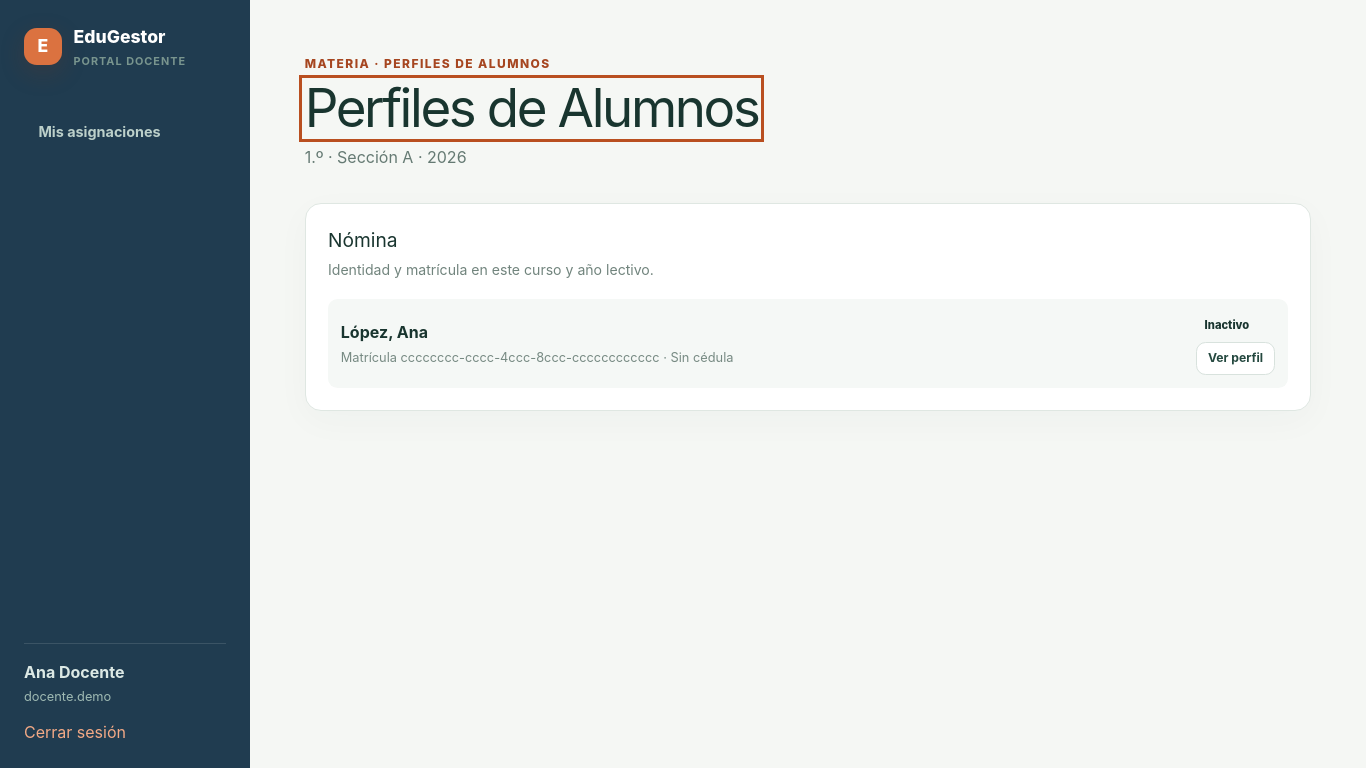
Test: Hito 2A — estudiantes › STU-24: perfiles desde materia presentan solo identidad y matrícula contextual
The width and height of the screenshot is (1366, 768).
expect the heading "Perfiles de Alumnos" is shown: met, box 305,81 -> 758,136
Click the button "Ver perfil" at (1236, 358), box 1196,342 -> 1275,375
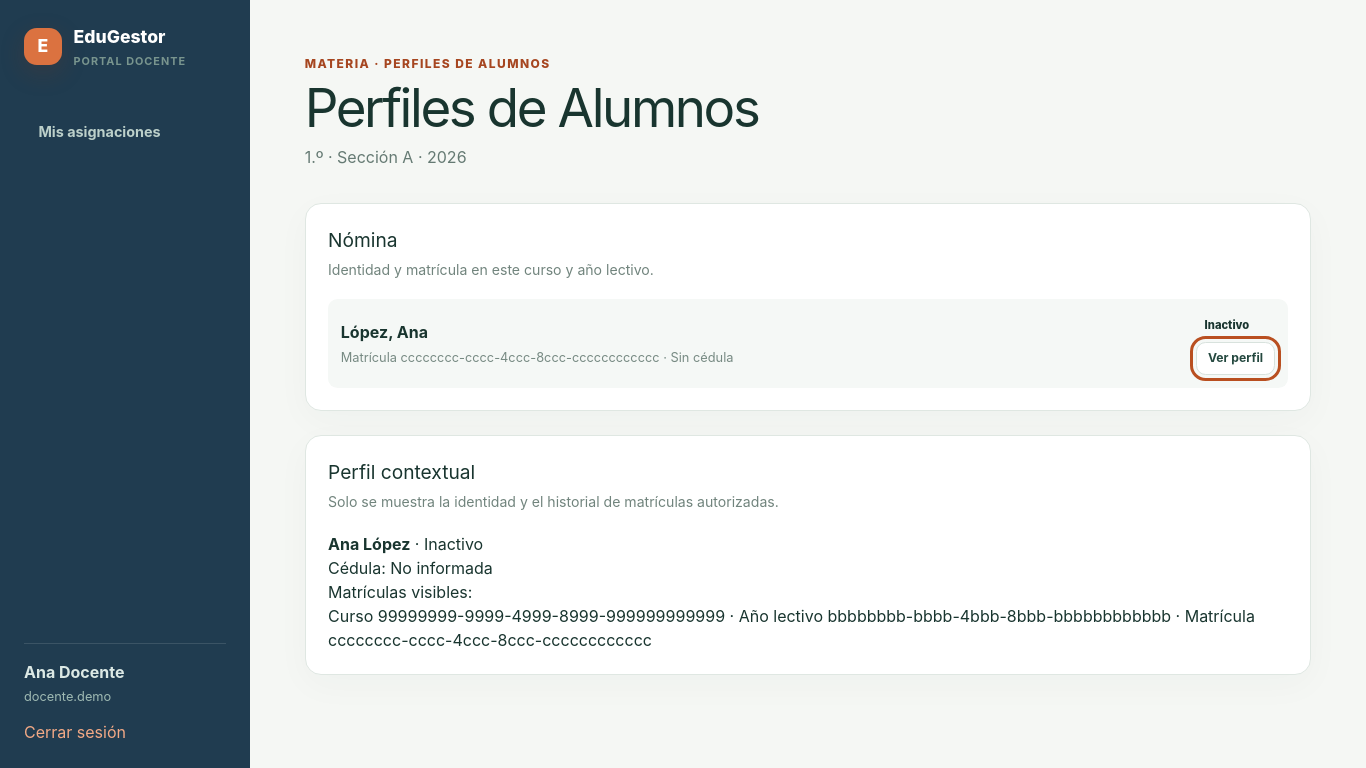
expect the text "Cédula: No informada" is shown: met, box 328,558 -> 493,578
expect the text "Matrículas visibles:" is shown: met, box 328,582 -> 472,602
